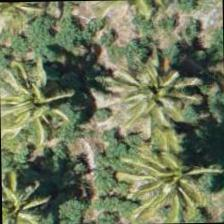Kelapa_Sawit: (104, 48, 196, 140), (122, 136, 215, 223), (0, 71, 79, 163), (1, 166, 59, 223), (0, 1, 48, 53)
